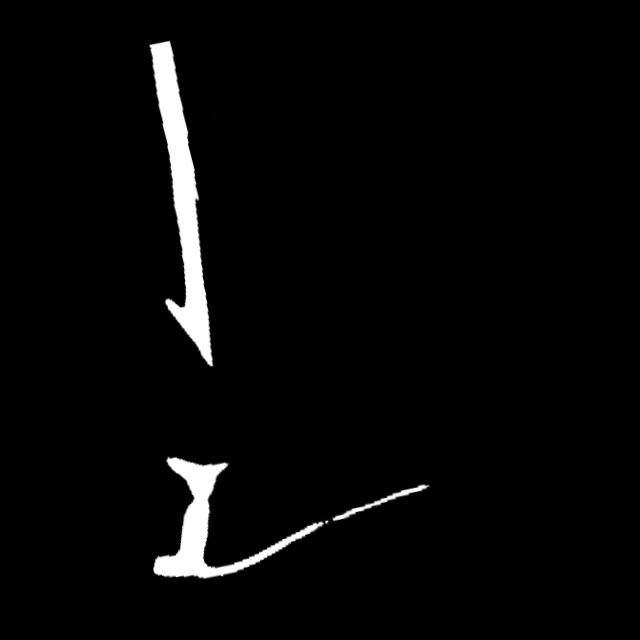inf: (307, 500, 349, 535)
